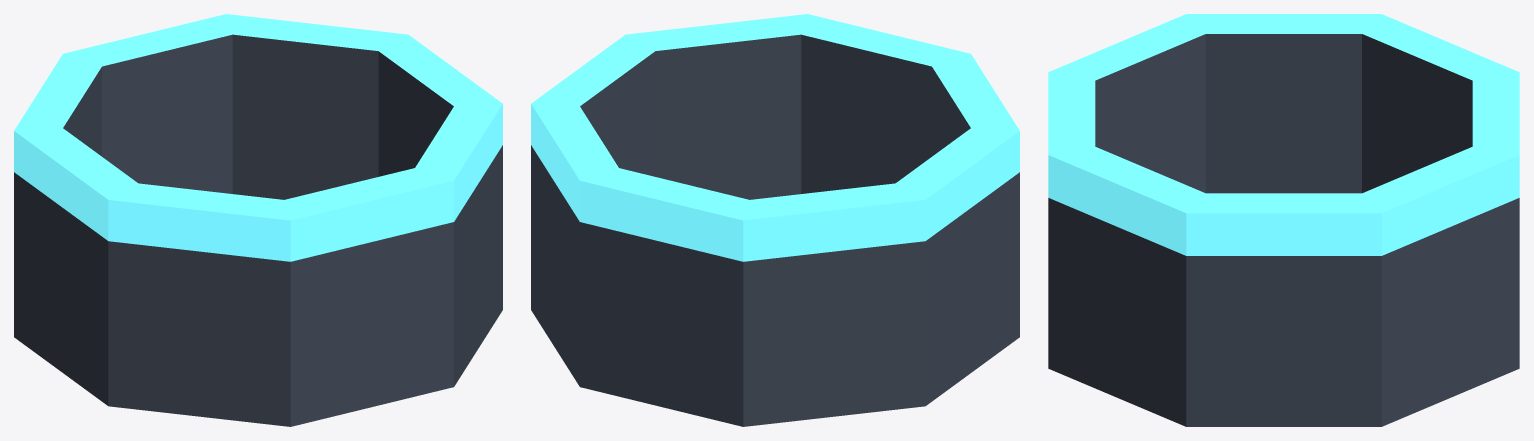
The model's file is rocket_fuelA.glb.
3 views of the same model, side by side, from view 1: azimuth 30°, elevation 25°; view 2: azimuth 150°, elevation 25°; view 3: azimuth 270°, elevation 25° (orthographic). The views are drawn at different scales.
Parts seen in each view (by area): view 1: rocket_fuelA; view 2: rocket_fuelA; view 3: rocket_fuelA.
Boxes of the visible parts, box(x1,y1,x2,y2) form: rocket_fuelA: box(14, 14, 502, 426); rocket_fuelA: box(531, 14, 1019, 426); rocket_fuelA: box(1048, 14, 1519, 426).
Bounding box in the file's own units: 1 × 0.5 × 1.
